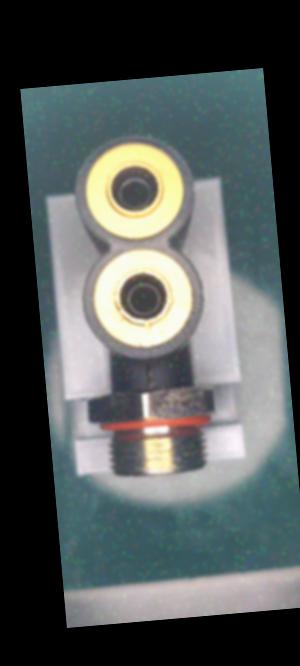craze: (140, 362, 159, 392)
